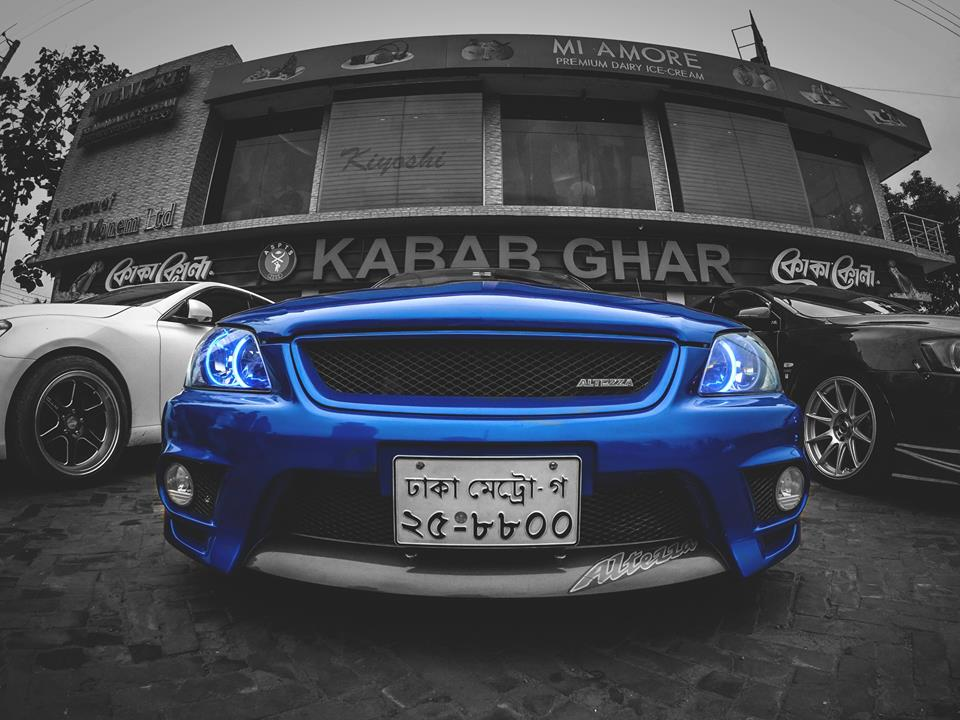registration_plate: (392, 453, 583, 548)
